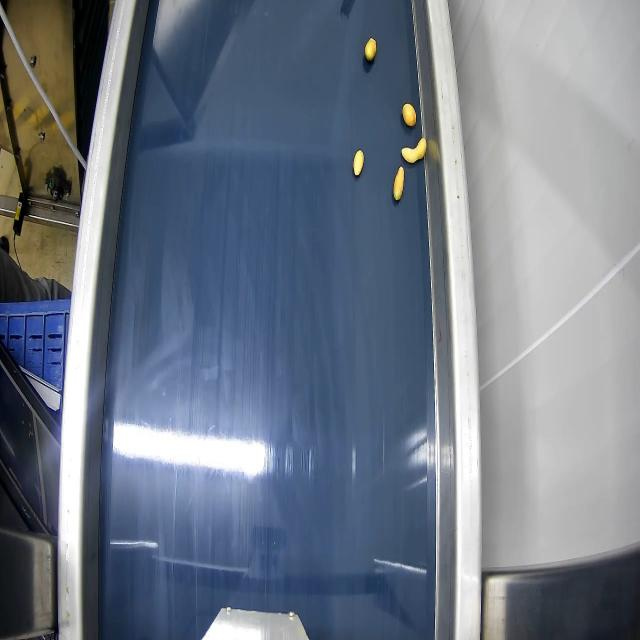Baby Potato: (400, 136, 430, 163), (402, 99, 417, 131), (393, 167, 405, 203), (353, 147, 366, 178), (363, 37, 378, 61)
